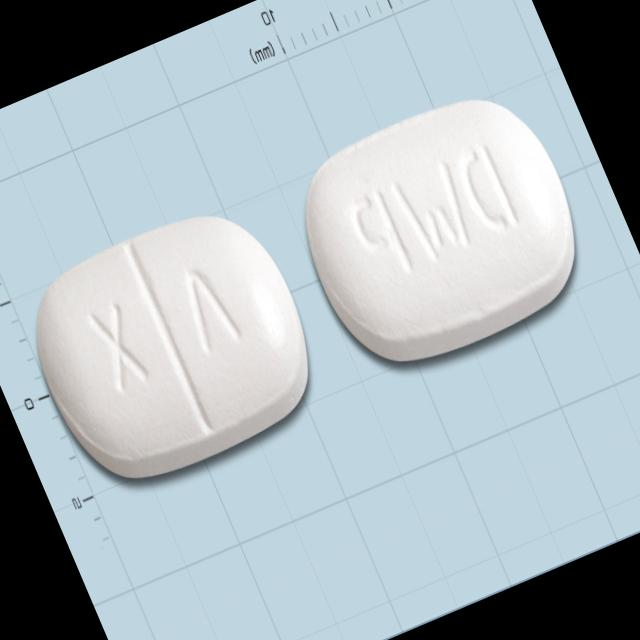Aclova 400mg: (272, 70, 604, 390), (5, 186, 337, 504)
